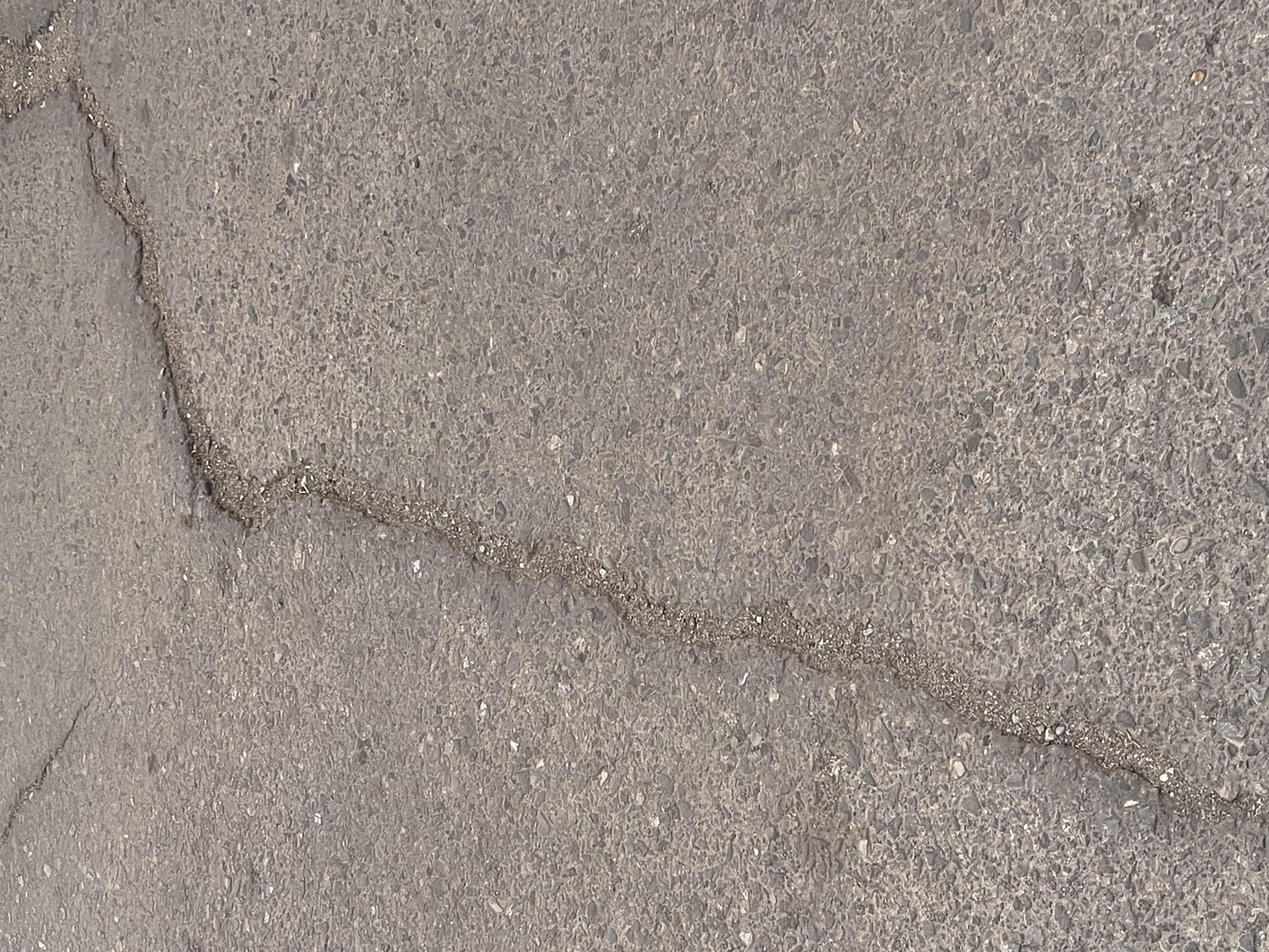GRIETA: (51, 0, 1269, 822), (0, 699, 91, 842)
